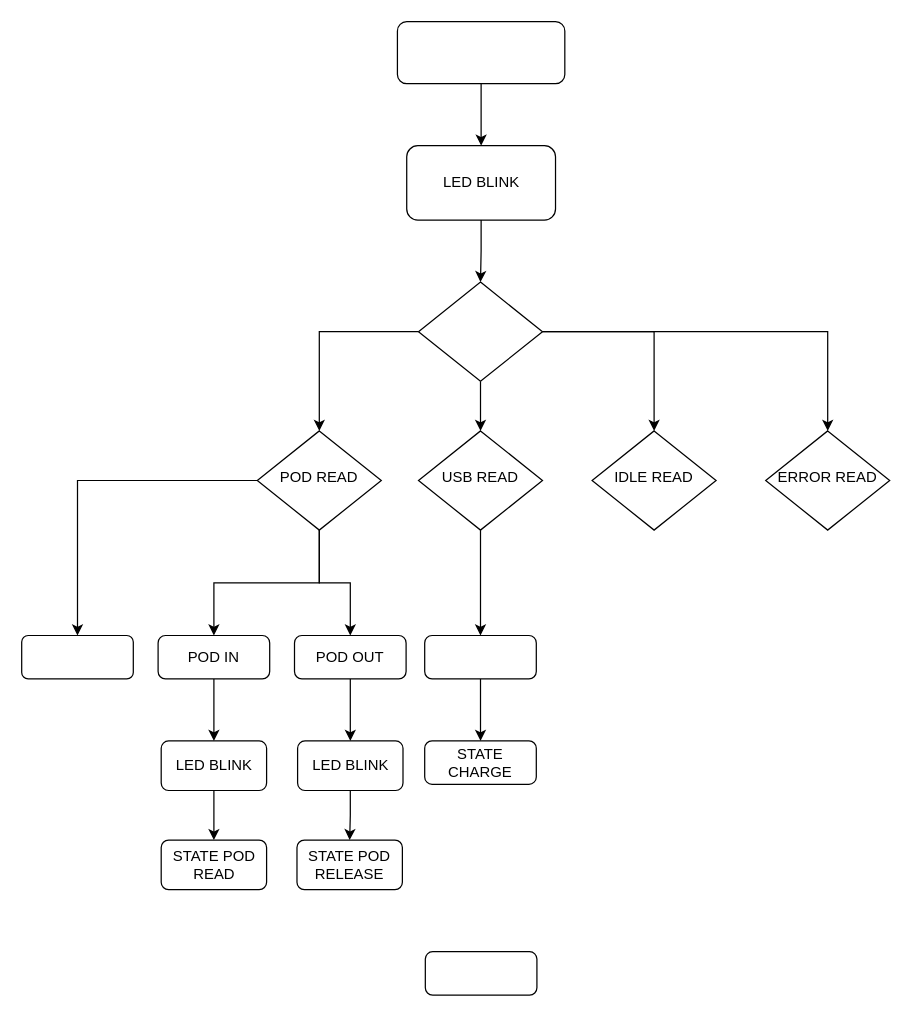
This 911x1017 diagram has some shape labels left out. Each missing label, with the centre of its shape:
"CHARGE" belongs at (479,656).
"EVENT ALLOCATION" belongs at (479,331).
"INITIALISE FIRMWARE (HAL, LED,WD, CLOCK)" belongs at (480,52).
"PUFF" belongs at (76,656).
"State Idle" belongs at (480,972).
